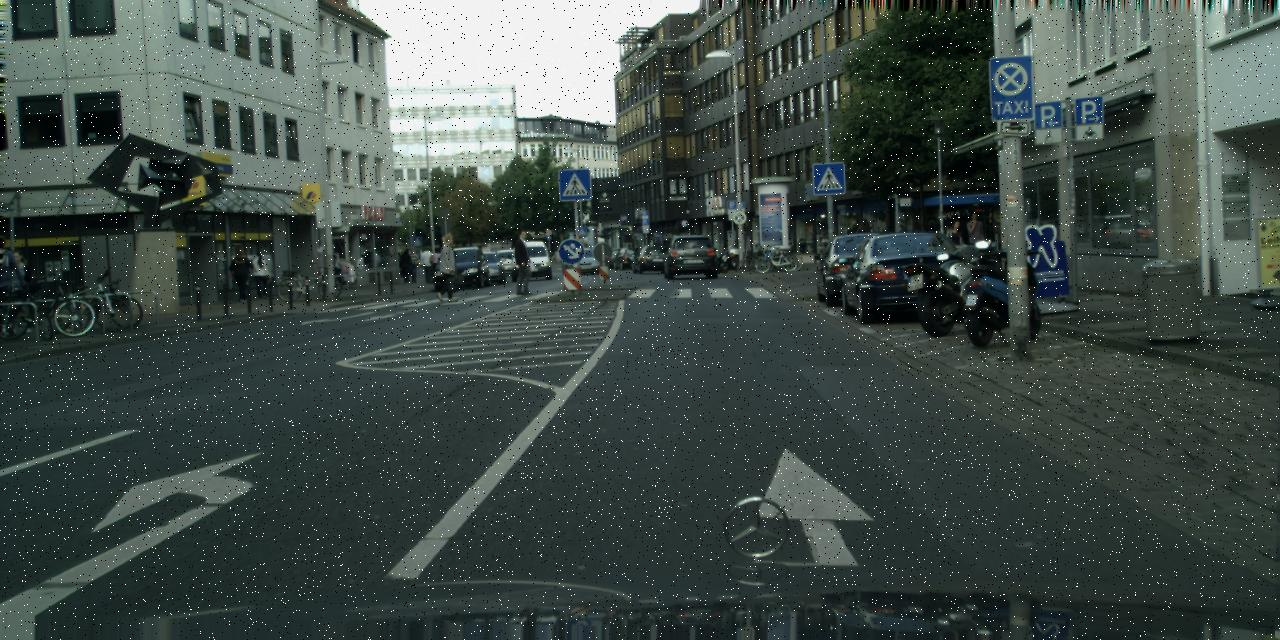ped: (2, 250, 36, 332), (0, 236, 20, 332), (433, 233, 460, 300), (964, 213, 990, 277), (510, 230, 536, 294), (945, 220, 966, 272), (231, 250, 252, 300), (251, 250, 270, 298), (856, 218, 874, 263), (846, 220, 862, 261), (420, 247, 434, 282), (406, 248, 420, 281), (430, 248, 443, 282), (400, 248, 412, 283)
